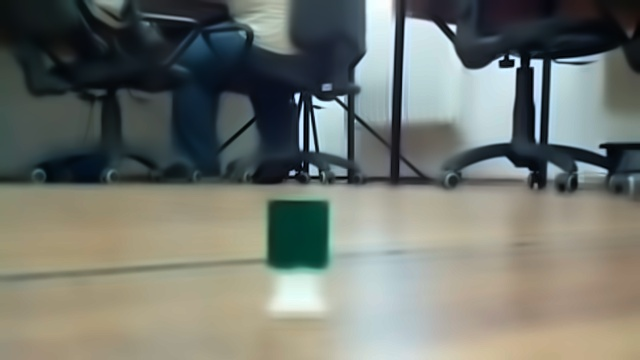rect: (255, 196, 343, 322)
